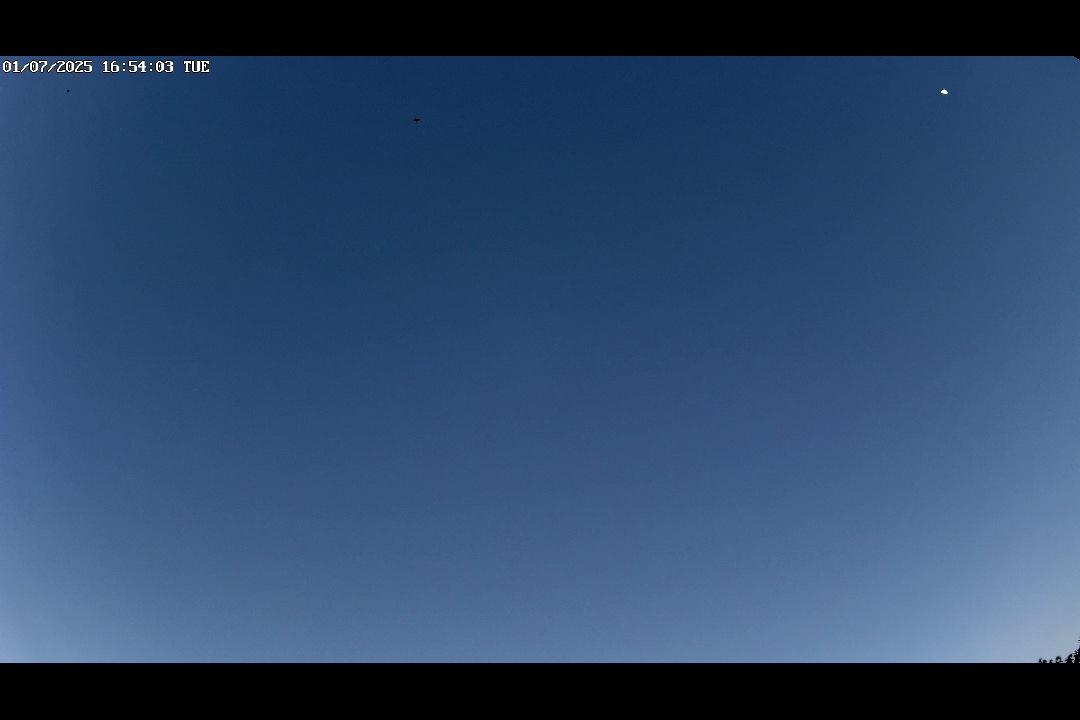WildLife: (407, 112, 426, 129), (61, 84, 79, 97)
